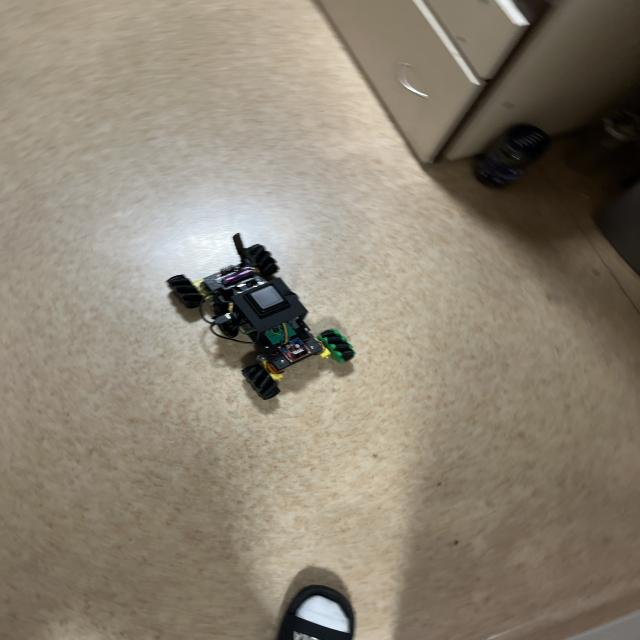robot: (167, 233, 355, 399)
